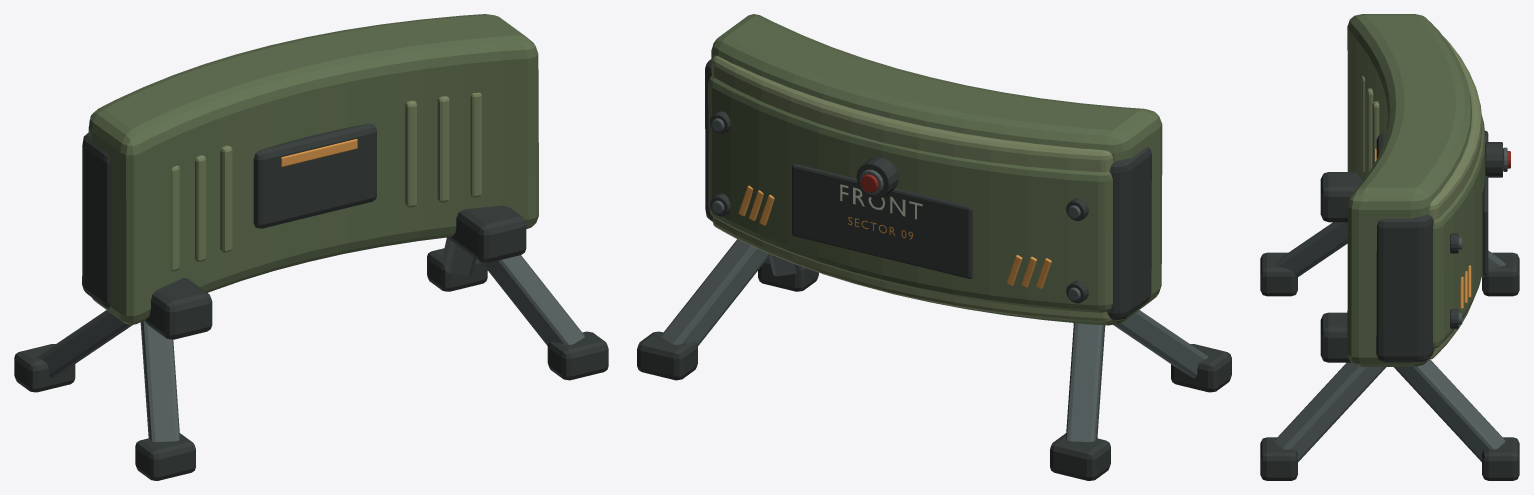
Rendered from claymore.glb.
3 renders of one model, left to right at view 1: azimuth 30°, elevation 25°; view 2: azimuth 150°, elevation 25°; view 3: azimuth 270°, elevation 25°, orthographic. The views are drawn at different scales.
Parts seen in each view (by area): view 1: Molded field olive, Reinforced graphite, Dark anodized hardware, Olive edge trim, Amber field markings; view 2: Molded field olive, Reinforced graphite, Olive edge trim, Dark anodized hardware, Amber field markings; view 3: Molded field olive, Reinforced graphite, Dark anodized hardware, Olive edge trim, Amber field markings.
Part boxes in pixels (left/top/right/bottom): Molded field olive: left=88, top=14, right=538, bottom=325; Reinforced graphite: left=14, top=123, right=608, bottom=480; Dark anodized hardware: left=38, top=237, right=584, bottom=441; Olive edge trim: left=89, top=92, right=481, bottom=271; Amber field markings: left=281, top=139, right=357, bottom=166; Molded field olive: left=708, top=14, right=1162, bottom=325; Reinforced graphite: left=637, top=59, right=1231, bottom=480; Olive edge trim: left=711, top=55, right=1113, bottom=322; Dark anodized hardware: left=661, top=118, right=1208, bottom=441; Amber field markings: left=738, top=185, right=1051, bottom=288; Molded field olive: left=1347, top=14, right=1485, bottom=366; Reinforced graphite: left=1260, top=130, right=1519, bottom=480; Dark anodized hardware: left=1274, top=147, right=1507, bottom=462; Olive edge trim: left=1361, top=35, right=1482, bottom=359; Amber field markings: left=1374, top=148, right=1471, bottom=308.
Bounding box in the file's own units: 0.438 × 0.2781 × 0.234.
